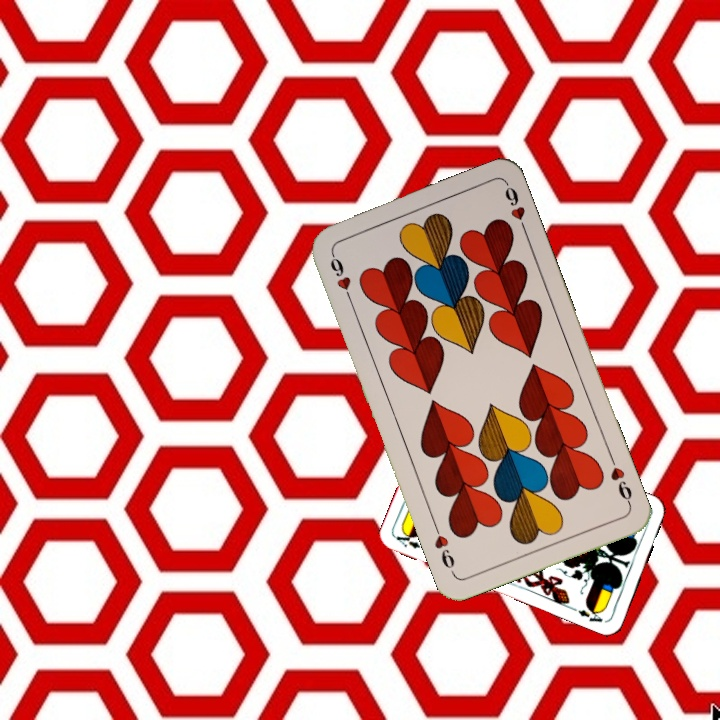EA: (392, 529, 423, 551)
H9: (606, 452, 635, 509), (326, 248, 355, 305)
